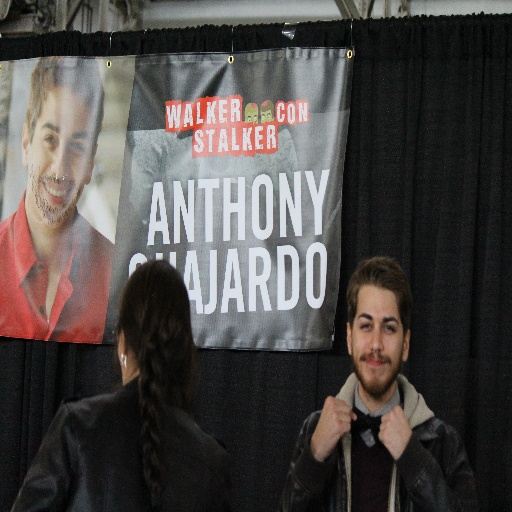hand: (324, 399, 364, 469), (376, 403, 412, 462)
